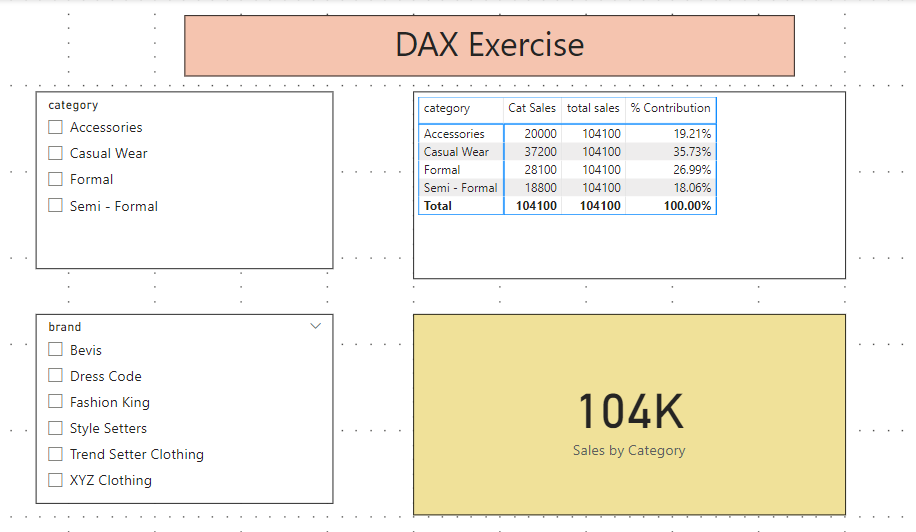

The page's visual inventory and layout, read from the dashboard file:
{"tool":"powerbi","page":{"name":"DAX EXERCISE","canvas":[1280,720],"ordinal":0},"visuals":[{"type":"slicer","fields":{"Values":["Sheet1.category"]},"box":[59.8,103,331.1,197.6],"z":0},{"type":"slicer","fields":{"Values":["Sheet1.brand"]},"box":[59.8,350.6,331.1,211.5],"z":1000},{"type":"pivotTable","fields":{"Rows":["Sheet1.category"],"Values":["Sheet1.Cat Sales","Sheet1.total sales","Sheet1.% Contribution"]},"box":[480,103,481.4,208.7],"z":2000},{"type":"card","fields":{"Values":["Sheet1.Category Sales"]},"box":[480,350.6,481.4,224],"z":3000},{"type":"textbox","box":[225.4,18.1,679,68.2],"z":4000}]}

Visuals, with their boxes on the page's 1280x720 design canvas (x1, y1, x2, y2). These are canvas units, not pixel positions in the 916x532 screenshot, which may show the page scaled, cropped or inside an application window:
slicer - Sheet1.category: pyautogui.locateOnScreen(60, 103, 391, 301)
slicer - Sheet1.brand: pyautogui.locateOnScreen(60, 351, 391, 562)
pivotTable - Sheet1.category x Sheet1.Cat Sales: pyautogui.locateOnScreen(480, 103, 961, 312)
card - Sheet1.Category Sales: pyautogui.locateOnScreen(480, 351, 961, 575)
textbox: pyautogui.locateOnScreen(225, 18, 904, 86)
